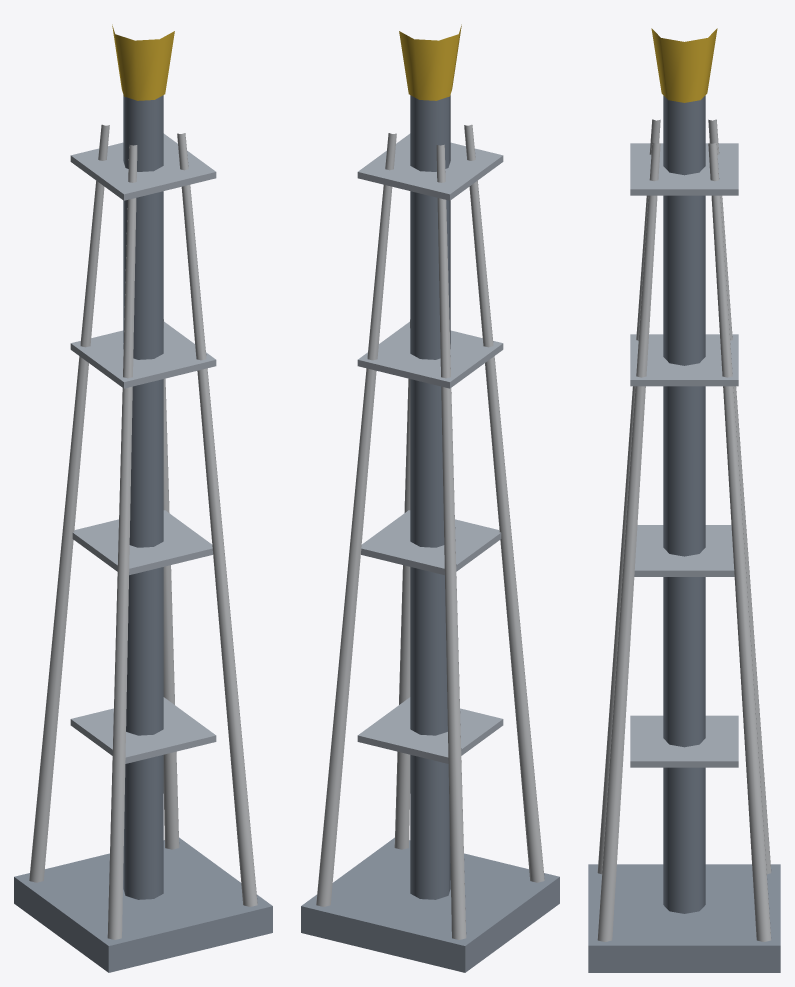
Rendered from flare-stack.glb.
The picture shows the model from 3 angles, left to right: view 1: azimuth 30°, elevation 25°; view 2: azimuth 150°, elevation 25°; view 3: azimuth 270°, elevation 25°; orthographic projection.
Parts seen in each view (by area): view 1: Root; view 2: Root; view 3: Root.
Part boxes in pixels (x1,y1,x2,y2): Root: (14,24,272,972); Root: (301,24,559,972); Root: (588,28,780,972).
Size of the model in its own units: 3.2 by 16.6 by 3.2.
